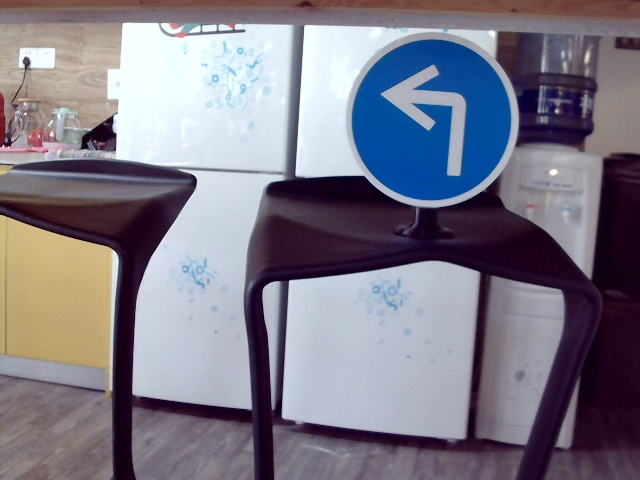turn_left: (380, 60, 476, 173)
